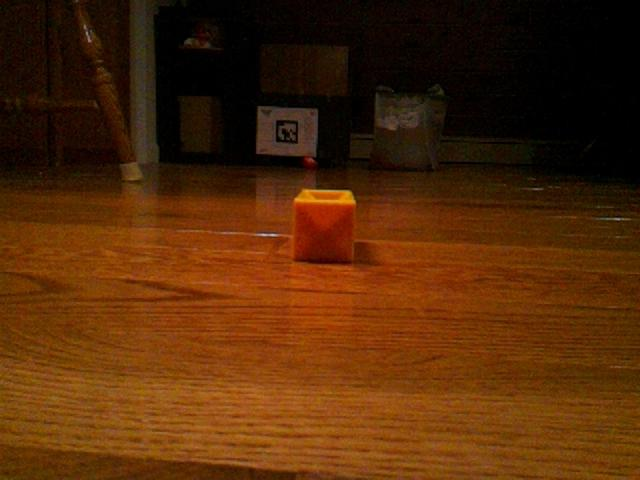yellow: (291, 188, 358, 264)
